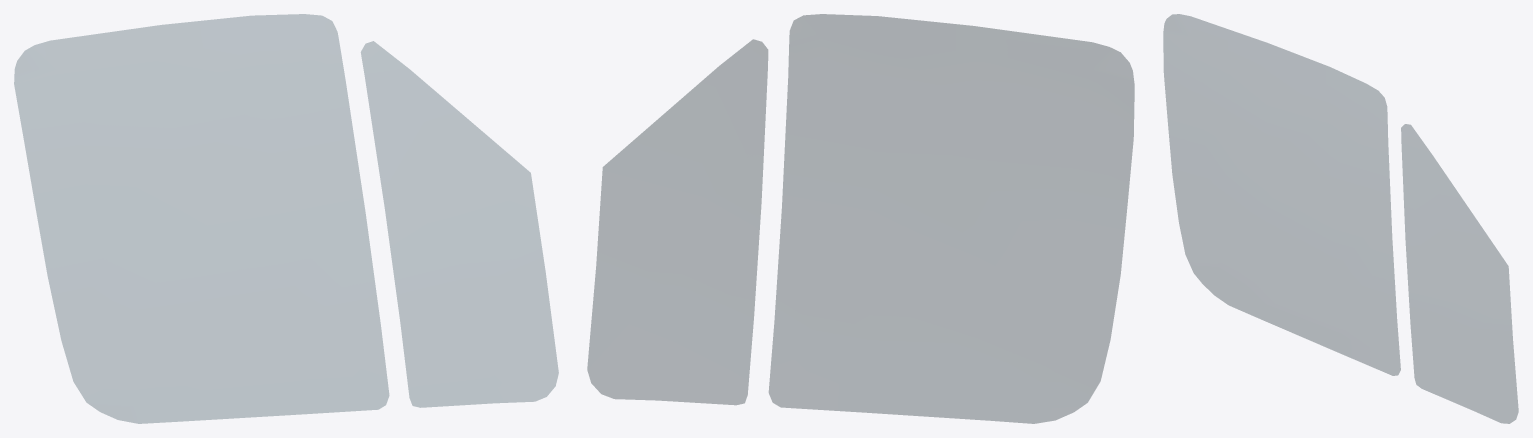
The picture shows the model from 3 angles, left to right: view 1: azimuth 30°, elevation 25°; view 2: azimuth 150°, elevation 25°; view 3: azimuth 330°, elevation 25°; orthographic projection. The views are drawn at different scales.
Parts seen in each view (by area): view 1: SM_MercedesSprinter_Door_FR_Glass_Int1; view 2: SM_MercedesSprinter_Door_FR_Glass_Int1; view 3: SM_MercedesSprinter_Door_FR_Glass_Int1.
Boxes of the visible parts, box(x1,y1,x2,y2) form: SM_MercedesSprinter_Door_FR_Glass_Int1: box(14, 14, 558, 423); SM_MercedesSprinter_Door_FR_Glass_Int1: box(587, 14, 1134, 423); SM_MercedesSprinter_Door_FR_Glass_Int1: box(1163, 14, 1518, 423).
Bounding box in the file's own units: 0.8732 × 0.7281 × 0.0516.
